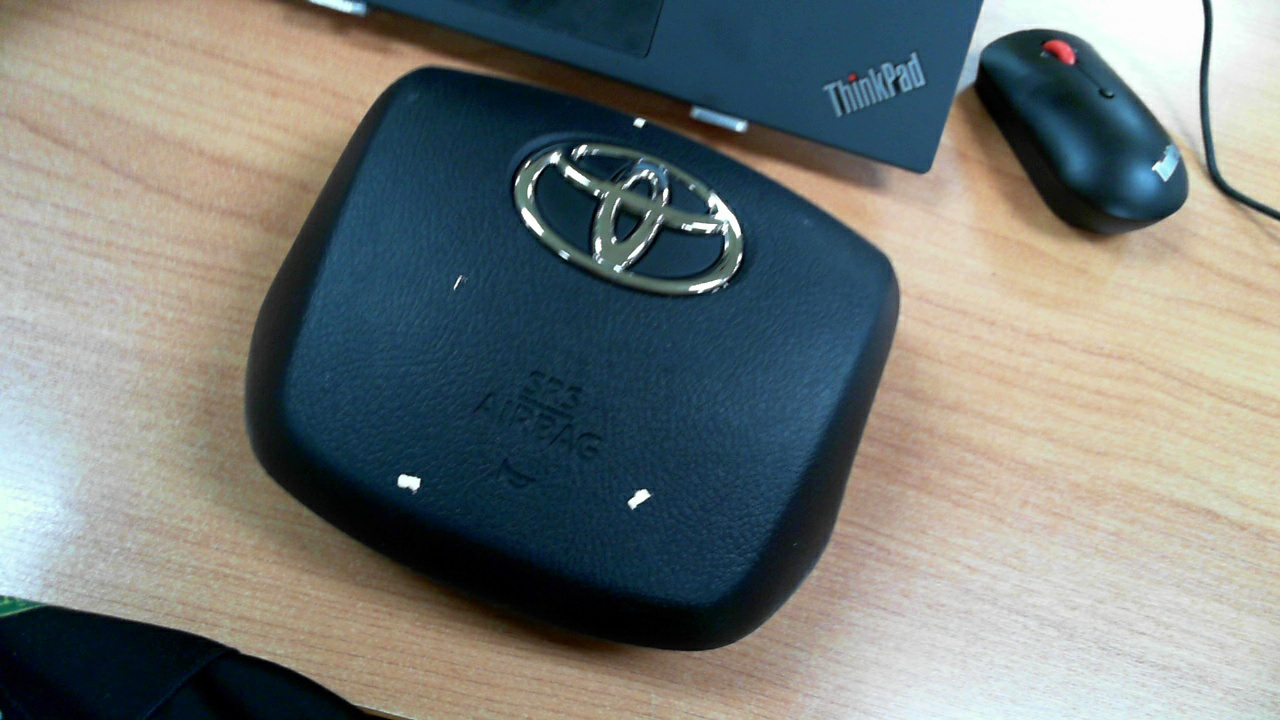Airbag: (244, 65, 901, 651)
Mark: (627, 489, 651, 510), (397, 474, 421, 491), (633, 117, 646, 128), (454, 275, 462, 292)
